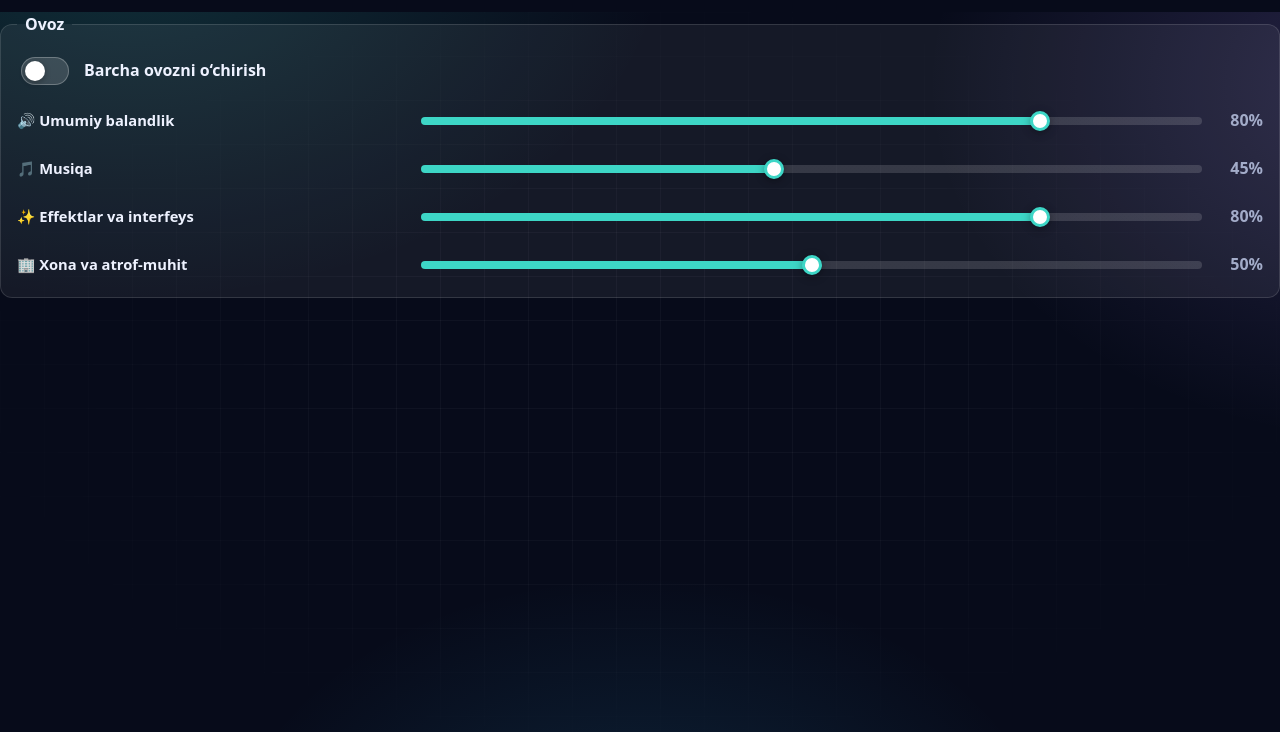
Scenario: ovoz sozlamalari paneli › ovozsiz rejim: slayderlar o‘chadi, sozlama saqlanadi
Click the checkbox labelled "Barcha ovozni o‘chirish" at (45, 71), box [21,57,69,85]
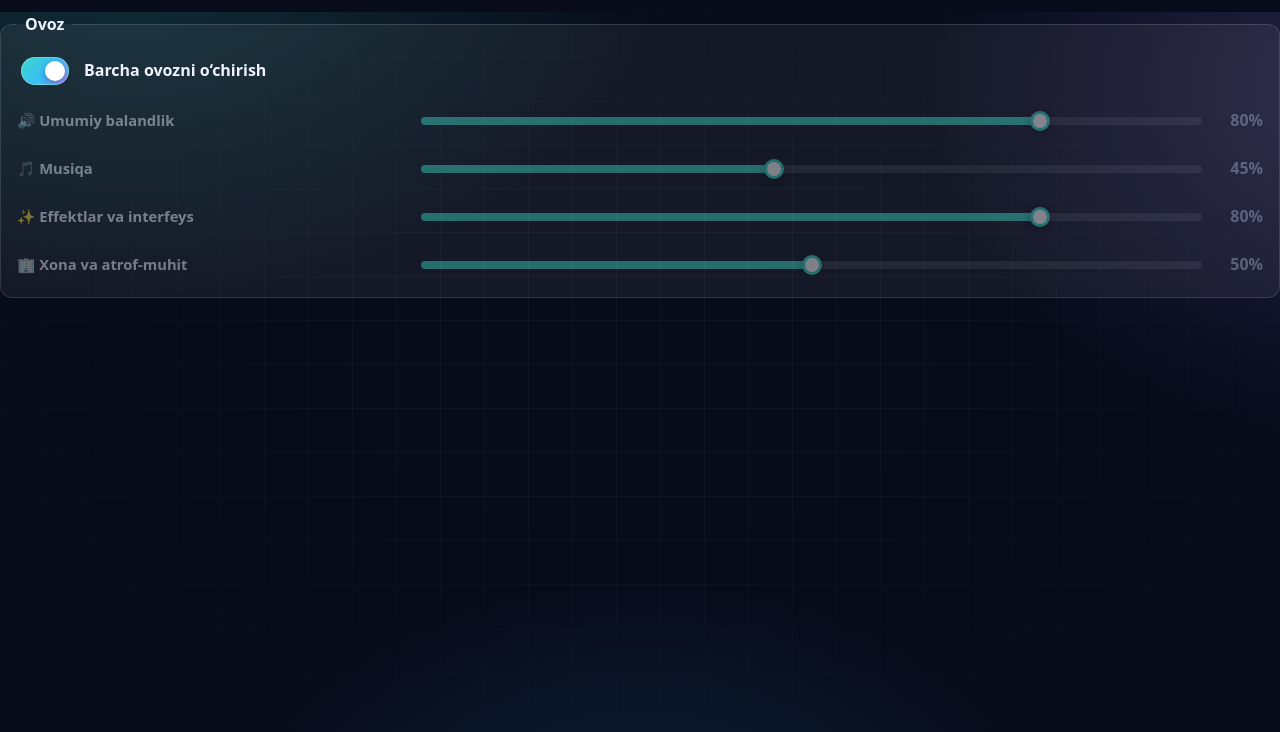
expect the slider labelled "🔊 Umumiy balandlik" is disabled: met, box [421,117,1202,125]
expect the slider labelled "🎵 Musiqa" is disabled: met, box [421,165,1202,173]
expect the slider labelled "✨ Effektlar va interfeys" is disabled: met, box [421,213,1202,221]
